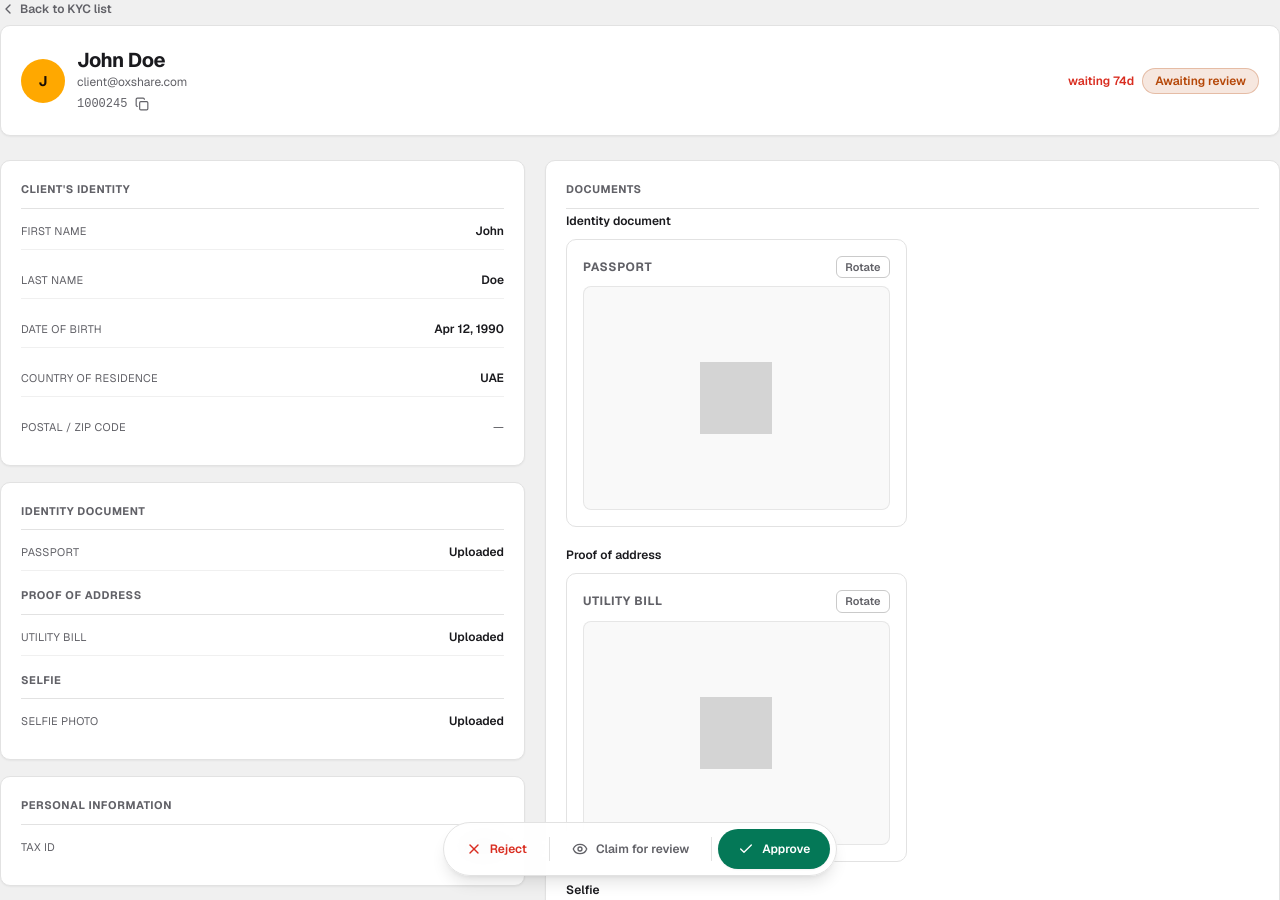
Scenario: KYC review — rejection requires a reason › offers a field added through the KYC builder, from the submission’s own layout
The image size is (1280, 900).
Click the button with aria-label "reject kyc submission": (496, 849) [450,829,543,869]
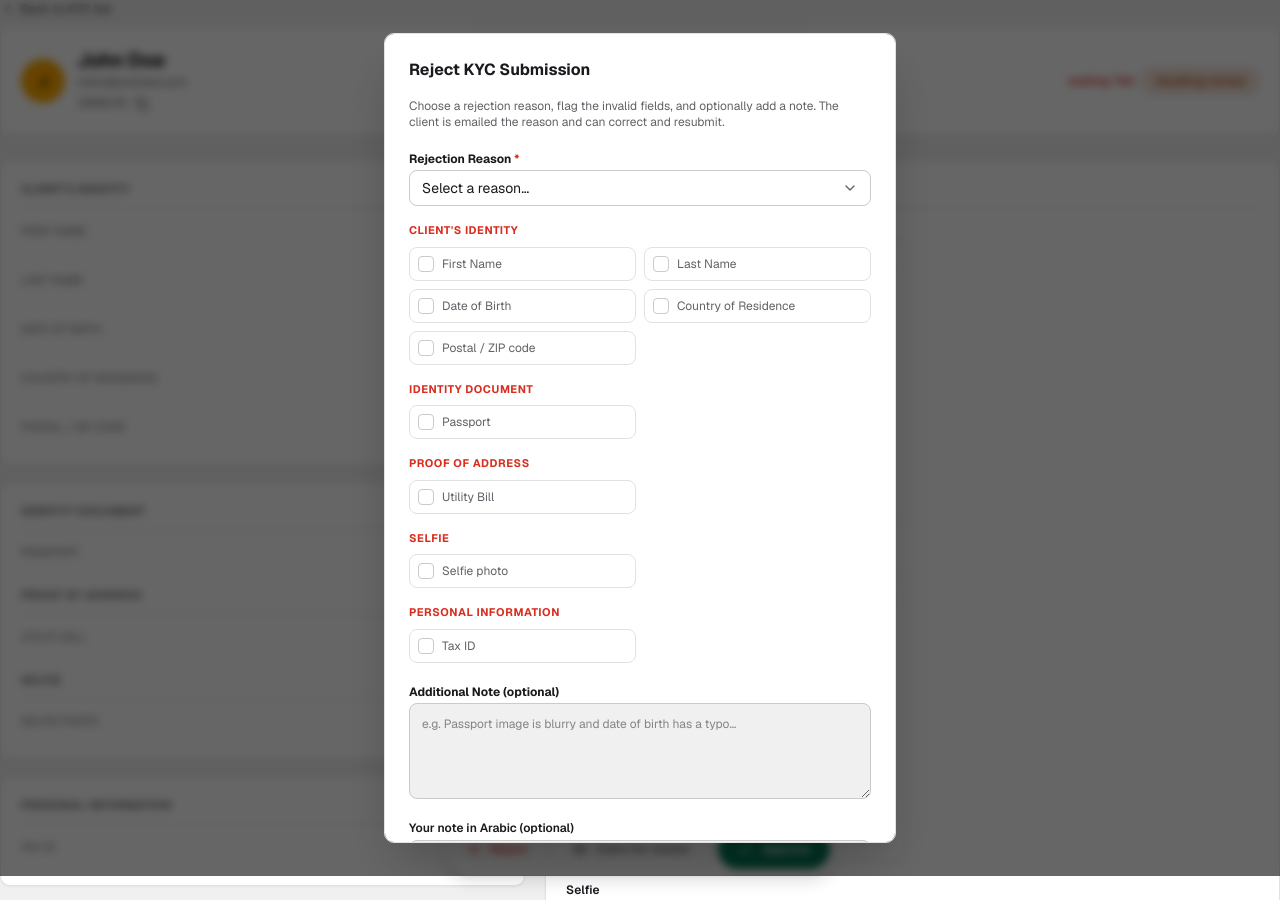
Result: the 9th checkbox named "Tax ID" is shown at [418,638,434,654]
